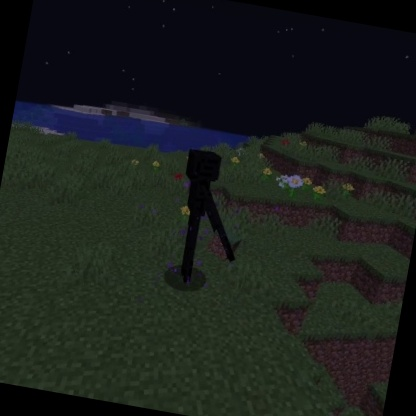enderman: (164, 146, 255, 294)
